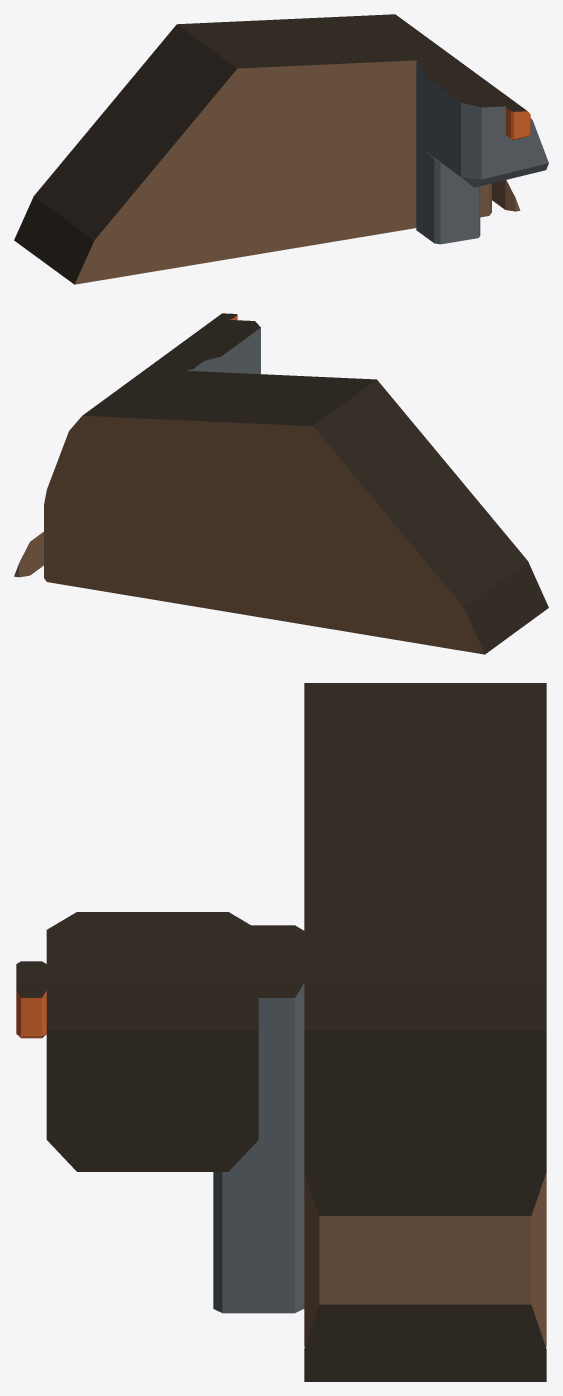
File: SM_DoorShard_03_04.fbx
The picture shows the model from 3 angles, top to bottom: view 1: azimuth 30°, elevation 25°; view 2: azimuth 150°, elevation 25°; view 3: azimuth 270°, elevation 25°; orthographic projection. The views are drawn at different scales.
Visible parts, largest first — view 1: SM_DoorShard_03_04; view 2: SM_DoorShard_03_04; view 3: SM_DoorShard_03_04.
Boxes of the visible parts, <box> form: SM_DoorShard_03_04: <box>14,14,548,284</box>; SM_DoorShard_03_04: <box>14,313,548,654</box>; SM_DoorShard_03_04: <box>16,683,546,1381</box>.
Size of the model in its own units: 67.98 by 35 by 30.78.
